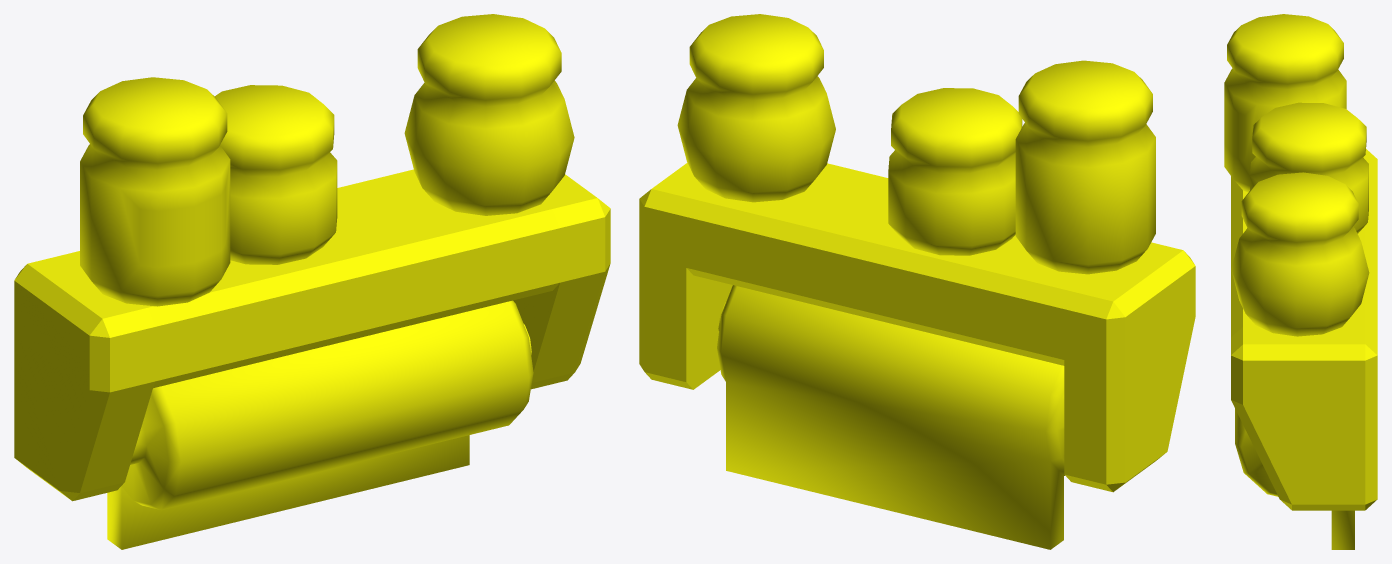
Rendered from kaykit-shelf-papertowel-decorated.glb.
The picture shows the model from 3 angles, left to right: view 1: azimuth 30°, elevation 25°; view 2: azimuth 150°, elevation 25°; view 3: azimuth 270°, elevation 25°; orthographic projection. The views are drawn at different scales.
Visible parts, largest first — view 1: shelf_papertowel_decorated; view 2: shelf_papertowel_decorated; view 3: shelf_papertowel_decorated.
Boxes of the visible parts, x1,y1,x2,y2 form: shelf_papertowel_decorated: (14, 14, 610, 549); shelf_papertowel_decorated: (639, 14, 1195, 549); shelf_papertowel_decorated: (1224, 14, 1377, 549).
Size of the model in its own units: 2 by 1.71 by 0.6263.
